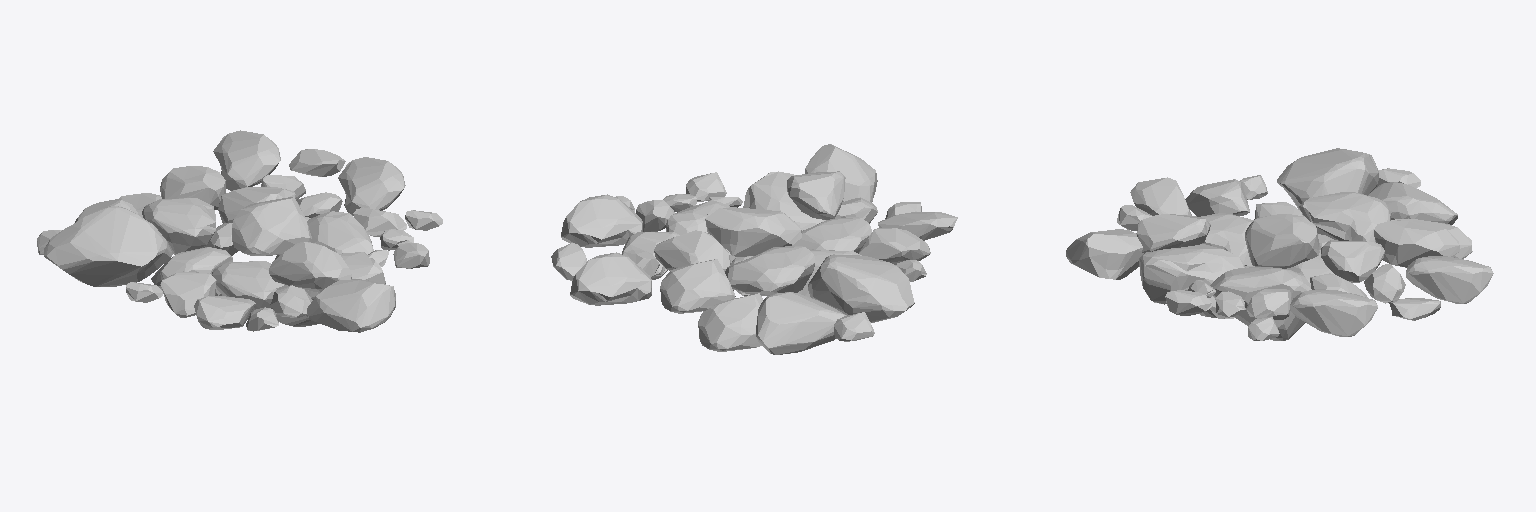
Rendered from Stones_pile_02.obj.
3 views of the same model, side by side, from view 1: azimuth 30°, elevation 25°; view 2: azimuth 150°, elevation 25°; view 3: azimuth 270°, elevation 25° (orthographic).
Parts seen in each view (by area): view 1: g Group27835_Group27835; view 2: g Group27835_Group27835; view 3: g Group27835_Group27835.
Boxes of the visible parts, x1,y1,x2,y2 form: g Group27835_Group27835: [37, 130, 442, 332]; g Group27835_Group27835: [551, 144, 957, 354]; g Group27835_Group27835: [1066, 148, 1493, 340].
Bounding box in the file's own units: 1.78 × 0.452 × 1.88.